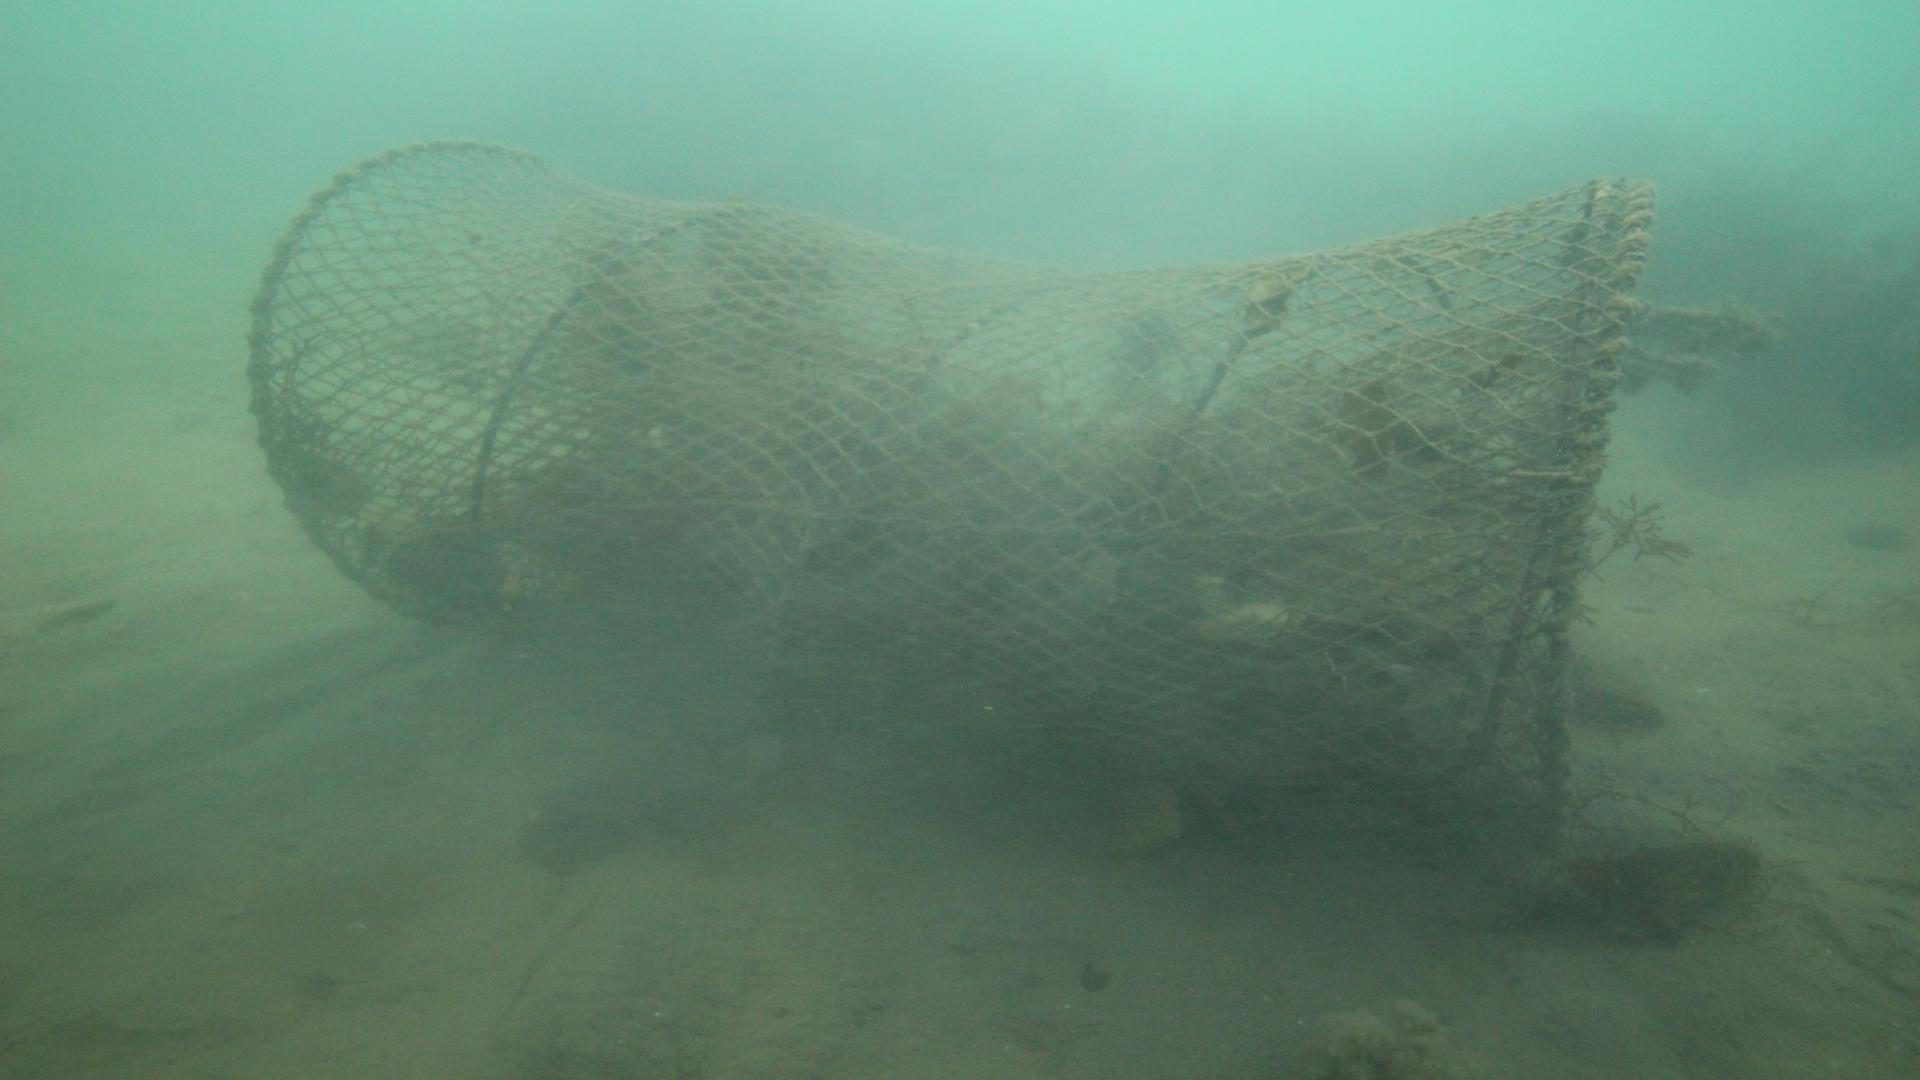spring fish trap: (243, 136, 1660, 849)
